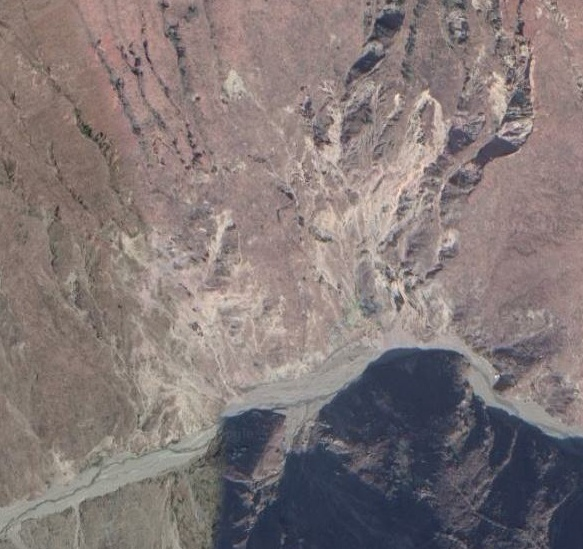slope: (280, 28, 538, 350), (103, 202, 305, 446)
